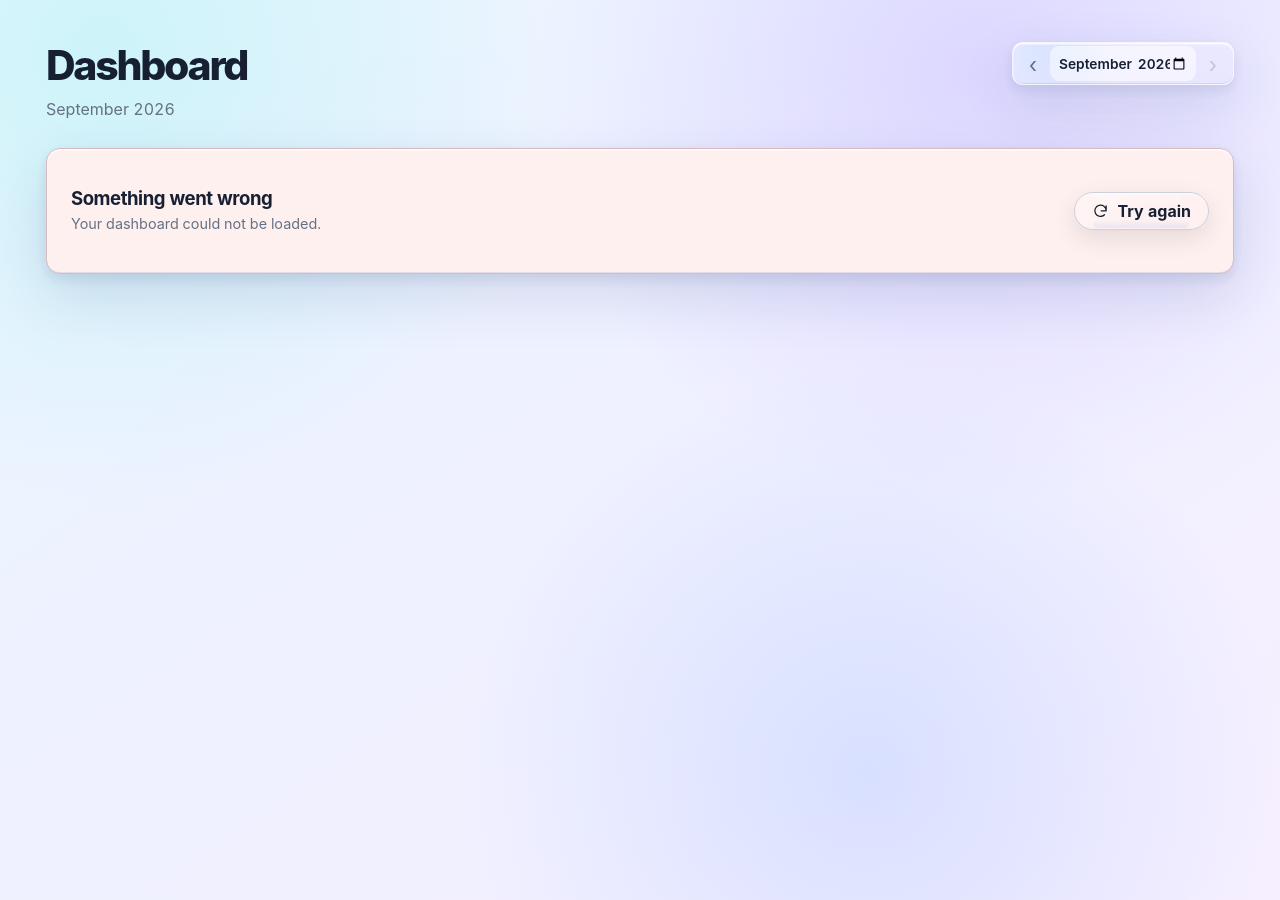
DashboardPage › offers a working retry after a dashboard server failure
Click the button "Try again": (1141, 211) [1074,192,1209,230]
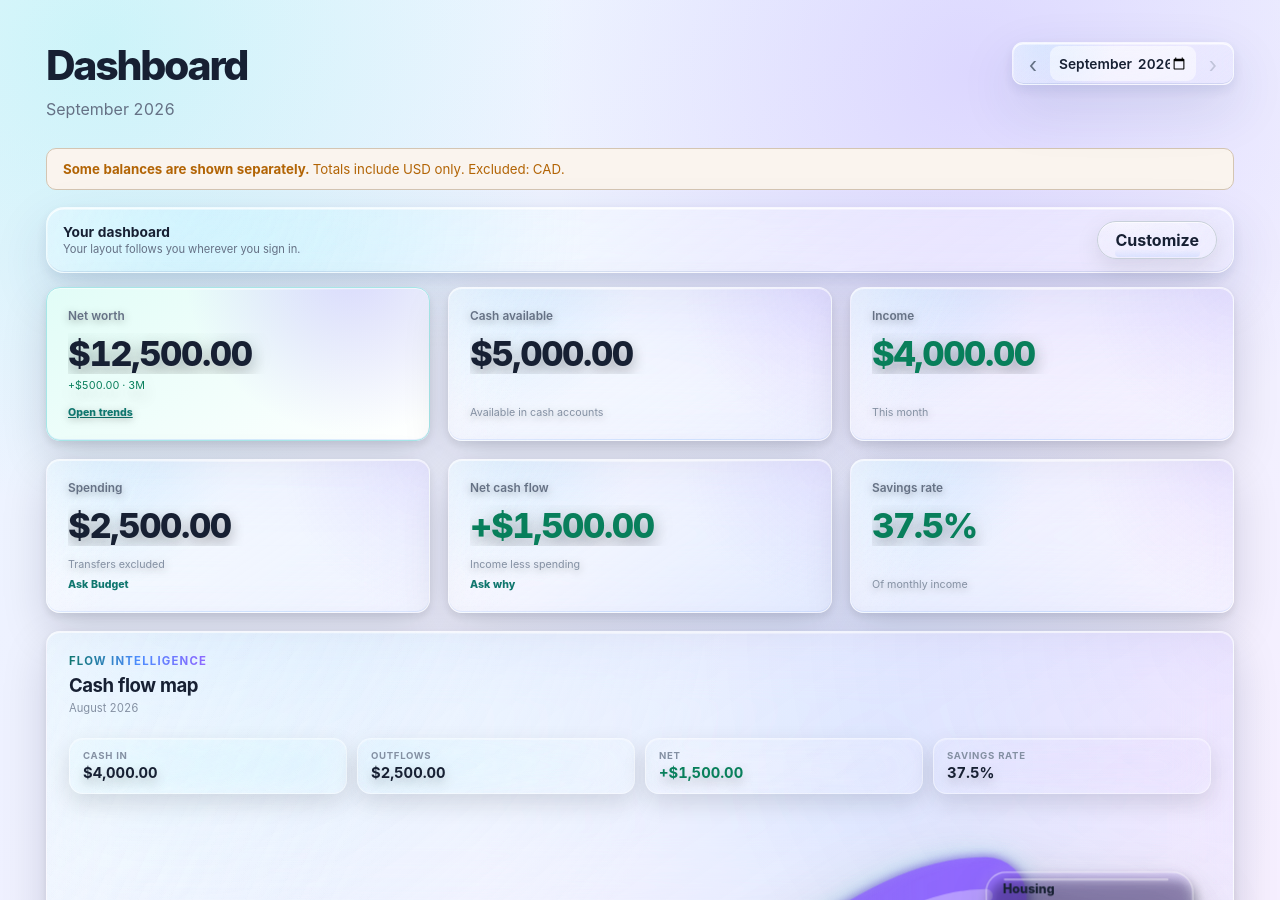
Now the text "$12,500.00" is shown, box [68,333,252,374]
